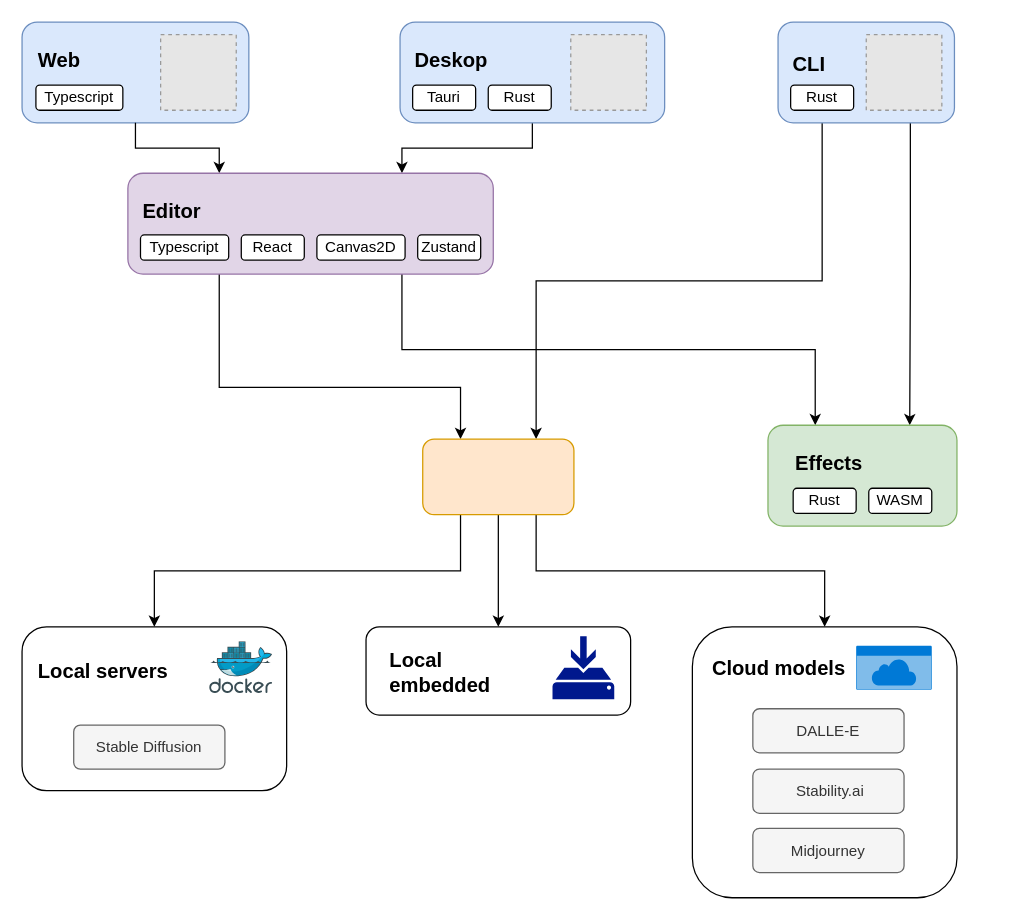
Image size: 1017x920. Some labels were removed from this diagram. Grey dashed boxes stand in for pictures. The centre of each missing label's shape, as x and y in pixels:
"AI Models" belongs at (497,476).
"Cloud" belongs at (893,667).
